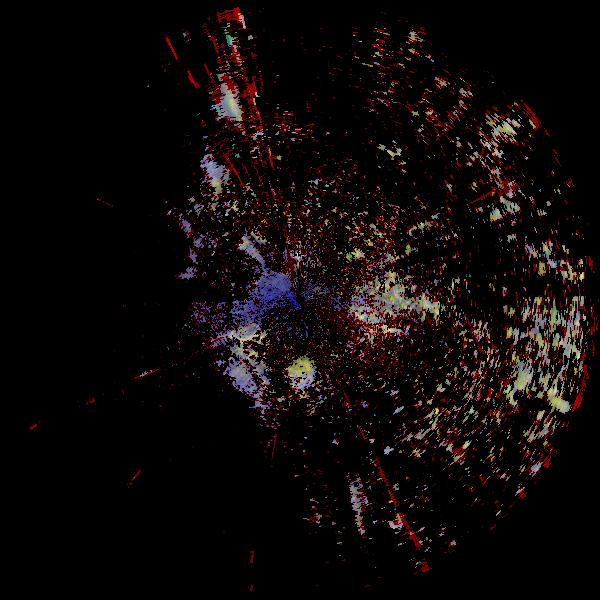roost: (282, 353, 324, 395)
